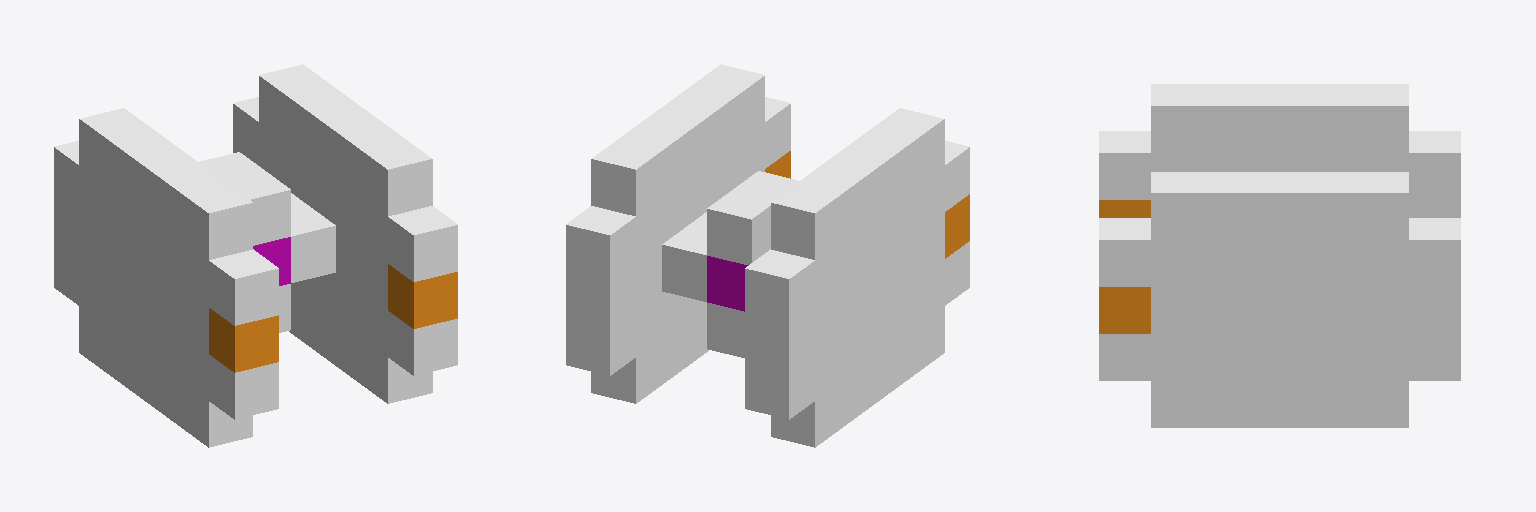
3 views of the same model, side by side, from view 1: azimuth 30°, elevation 25°; view 2: azimuth 150°, elevation 25°; view 3: azimuth 270°, elevation 25° (orthographic).
Parts seen in each view (by area): view 1: object 1; view 2: object 1; view 3: object 1.
Part boxes in pixels (x1,y1,x2,y2): object 1: (54, 64, 457, 447); object 1: (566, 64, 969, 447); object 1: (1099, 84, 1460, 427).
Size of the model in its own units: 0.5 by 0.5 by 0.7.
Materials: 1 (1 with a texture image).